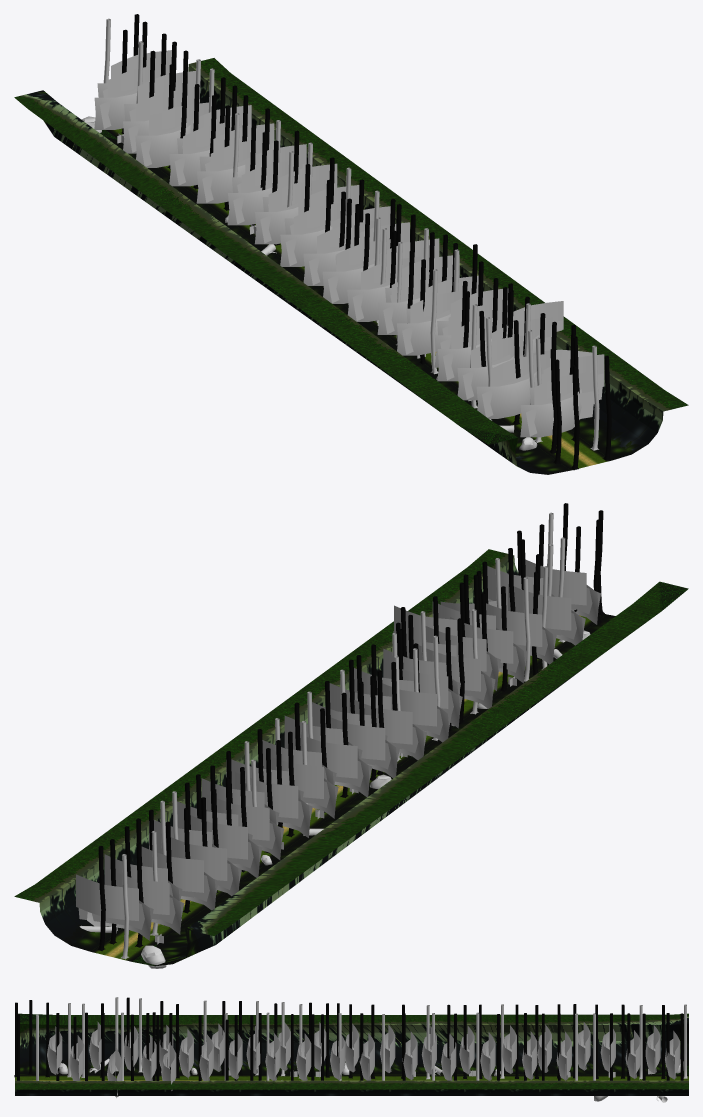
Rendered from forest_2.fbx.
3 renders of one model, top to bottom at view 1: azimuth 30°, elevation 25°; view 2: azimuth 150°, elevation 25°; view 3: azimuth 270°, elevation 25°, orthographic. The views are drawn at different scales.
Visible parts, largest first — view 1: polySurface1924, polySurface1925; view 2: polySurface1924, polySurface1925, polySurface1699, Object01; view 3: polySurface1924, polySurface1925, Object01, polySurface1699, polySurface1701.
Part boxes in pixels (left/top/right/bottom): polySurface1924: left=14, top=14, right=688, bottom=474; polySurface1925: left=103, top=18, right=599, bottom=450; polySurface1924: left=14, top=503, right=688, bottom=966; polySurface1925: left=120, top=512, right=565, bottom=959; polySurface1699: left=141, top=630, right=590, bottom=968; Object01: left=102, top=615, right=583, bottom=957; polySurface1924: left=14, top=997, right=688, bottom=1097; polySurface1925: left=36, top=997, right=687, bottom=1080; Object01: left=15, top=1079, right=688, bottom=1080; polySurface1699: left=59, top=1059, right=683, bottom=1101; polySurface1701: left=228, top=1068, right=655, bottom=1080.
Size of the model in its own units: 18605 by 9746 by 76318.
